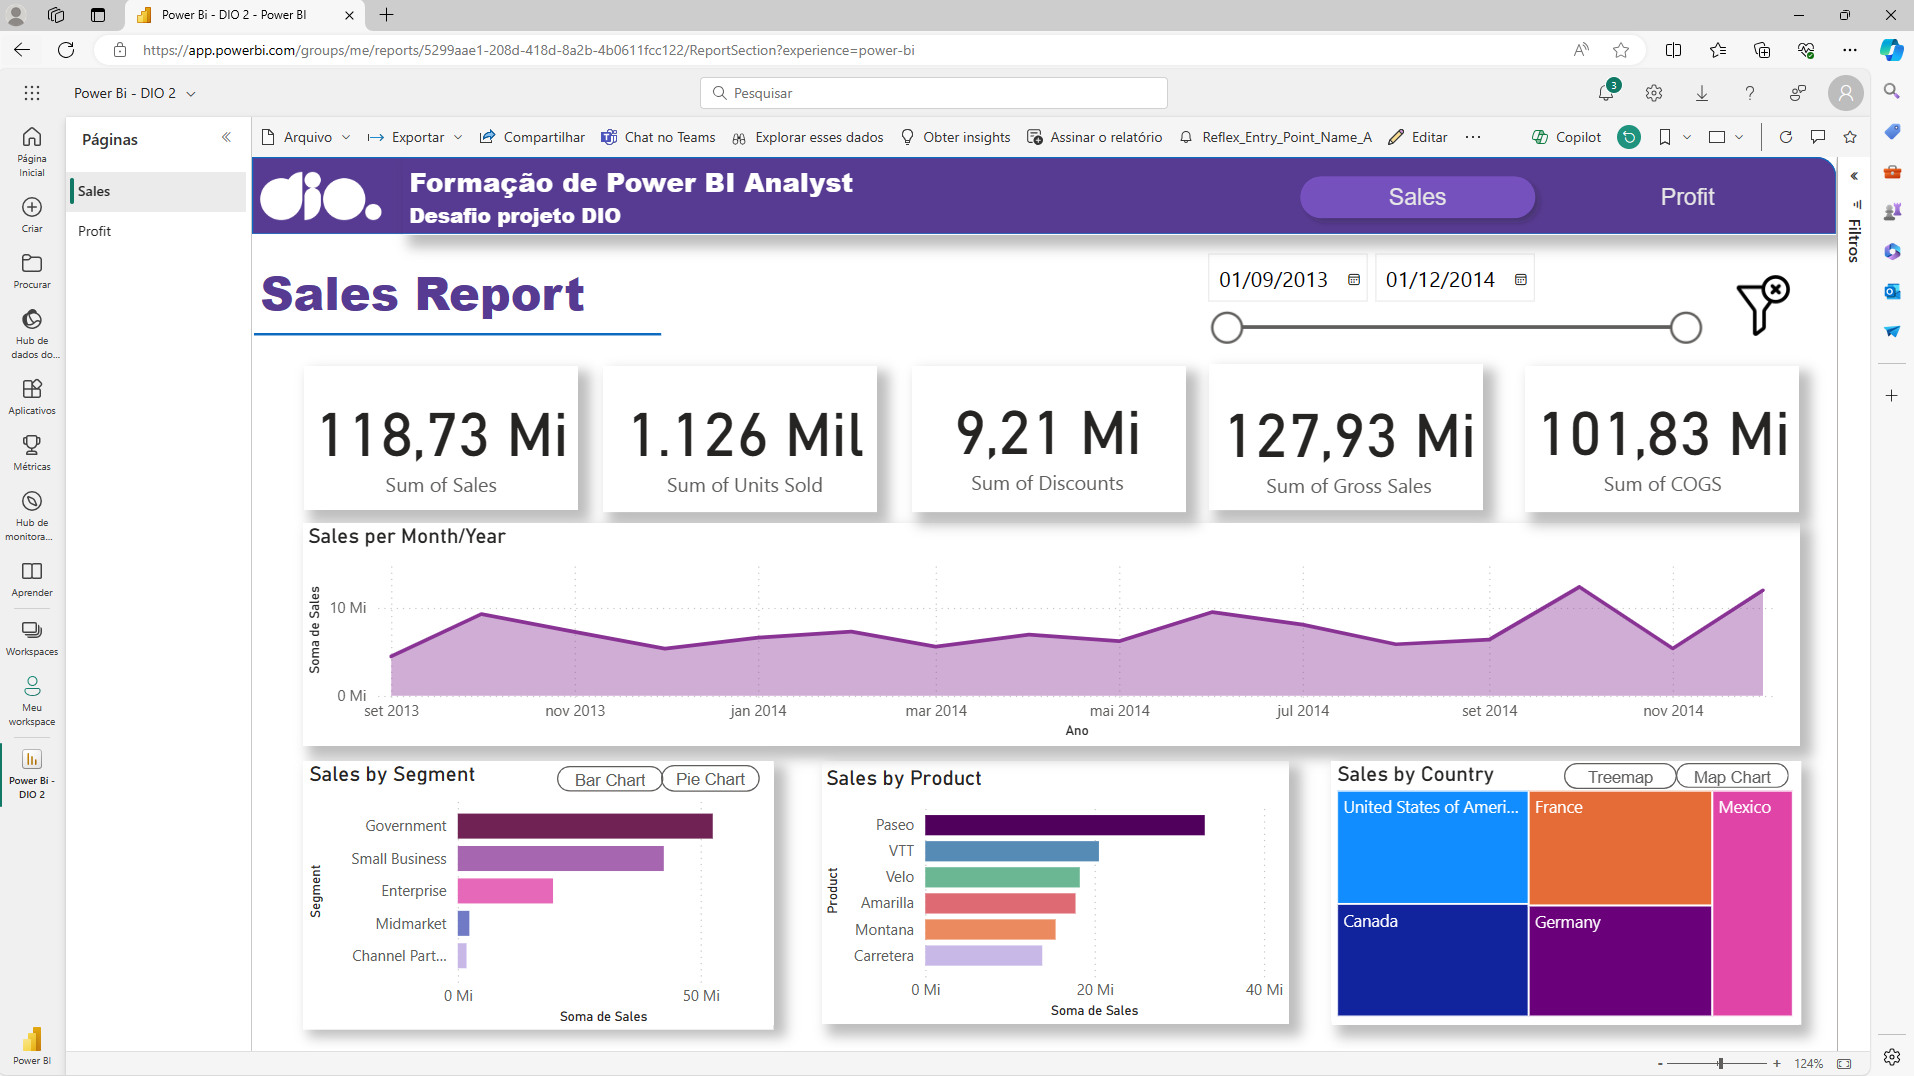

The page's visual inventory and layout, read from the dashboard file:
{"tool":"powerbi","page":{"name":"Sales","canvas":[1280,720],"ordinal":0},"visuals":[{"type":"shape","box":[0,0,1279.4,62.5],"z":0},{"type":"slicer","fields":{"Values":["financials.Date"]},"box":[758.8,67.8,420.3,101],"z":0,"group":"g1"},{"type":"card","fields":{"Values":["Sum(financials.Gross Sales)"]},"box":[774.4,166.7,222.8,126.6],"z":0,"group":"g4"},{"type":"clusteredBarChart","title":"Sales by Segment","fields":{"Y":["Sum(financials. Sales)"],"Category":["financials.Segment"]},"box":[40.9,488.1,380.3,216.6],"z":0,"group":"g2"},{"type":"image","title":"Imagem - Clean","box":[1187.9,90,64.1,59.1],"z":1000,"group":"g1"},{"type":"shape","box":[42.2,168.8,221.1,116.5],"z":1000},{"type":"card","fields":{"Values":["Sum(financials.Discounts)"]},"box":[532.4,168.8,220.3,116.5],"z":1000,"group":"g4"},{"type":"map","title":"Sales by Country","fields":{"Size":["Sum(financials. Sales)"],"Category":["financials.Country"]},"box":[872.8,488.2,378.2,195],"z":1000,"group":"g3"},{"type":"actionButton","title":"Treemap","box":[1059.5,489.3,91.2,21],"z":1750,"group":"g3"},{"type":"card","fields":{"Values":["Sum(financials.COGS)"]},"box":[1031,165.5,217.7,124.9],"z":2000,"group":"g4"},{"type":"shape","box":[460.4,488.1,377.1,211.9],"z":2000},{"type":"actionButton","title":"Map Chart","box":[1149.9,489.3,91.2,20.2],"z":2000,"group":"g3"},{"type":"shape","box":[283.6,168.8,221.1,118.2],"z":3000},{"type":"card","fields":{"Values":["Sum(financials.Units Sold)"]},"box":[287.4,176.1,221.1,105.3],"z":3000,"group":"g4"},{"type":"actionButton","title":"Bar Chart","box":[246,491.8,85.9,20.6],"z":3000,"group":"g2"},{"type":"actionButton","title":"Pie Chart","box":[330.1,491.2,79.8,21.5],"z":3500,"group":"g2"},{"type":"shape","box":[1.5,137.4,328.8,11.7],"z":4000},{"type":"card","fields":{"Values":["Sum(financials. Sales)"]},"box":[42.2,177.6,221.7,102.4],"z":4000,"group":"g4"},{"type":"shape","box":[773.1,167.1,221.1,118.2],"z":5000},{"type":"shape","box":[40.9,488.1,380,213.4],"z":6000},{"type":"shape","box":[40.9,295.2,1208.6,179.8],"z":7000},{"type":"shape","box":[533.4,168.8,221.1,118.2],"z":8000},{"type":"shape","box":[1027.9,168.8,221.1,118.2],"z":9000},{"type":"shape","box":[872.5,488.1,377.1,213.4],"z":10000},{"type":"textbox","box":[1.5,77.5,318.6,71.6],"z":11000},{"type":"clusteredBarChart","title":"Sales by Product","fields":{"Category":["financials.Product"],"Y":["Sum(financials. Sales)"]},"box":[458.9,491.1,378.5,209],"z":12000},{"type":"group","id":"g1","title":"Filtro por data","box":[758.8,67.8,493.2,101],"z":13000},{"type":"group","id":"g2","title":"Sales X Segmento","box":[40.9,488.1,382.9,216.3],"z":14000},{"type":"group","id":"g3","title":"Sales X Pais","box":[871,487.9,380,211.3],"z":15000},{"type":"group","id":"g4","title":"Cartões","box":[42.2,165.5,1206.5,127.8],"z":16000},{"type":"textbox","box":[121.7,0,1157.4,62.7],"z":17000},{"type":"areaChart","title":"Sales per Month/Year","fields":{"Category":["financials.Date.Variation.Hierarquia de datas.Ano","financials.Date.Variation.Hierarquia de datas.Mês"],"Y":["Sum(financials. Sales)"]},"box":[40.4,295.5,1209.8,178.6],"z":18000},{"type":"image","title":"Icone - DIO","box":[1.7,0,108,62.5],"z":19000},{"type":"pageNavigator","box":[837.2,6.8,427,52.3],"z":20000}]}

Visuals, with their boxes on the page's 1280x720 design canvas (x1, y1, x2, y2). These are canvas units, not pixel positions in the 1914x1076 screenshot, which may show the page scaled, cropped or inside an application window:
shape: bbox=[0, 0, 1279, 62]
slicer - financials.Date: bbox=[759, 68, 1179, 169]
card - Sum(financials.Gross Sales): bbox=[774, 167, 997, 293]
"Sales by Segment" clusteredBarChart: bbox=[41, 488, 421, 705]
"Imagem - Clean" image: bbox=[1188, 90, 1252, 149]
shape: bbox=[42, 169, 263, 285]
card - Sum(financials.Discounts): bbox=[532, 169, 753, 285]
"Sales by Country" map: bbox=[873, 488, 1251, 683]
"Treemap" actionButton: bbox=[1060, 489, 1151, 510]
card - Sum(financials.COGS): bbox=[1031, 166, 1249, 290]
shape: bbox=[460, 488, 838, 700]
"Map Chart" actionButton: bbox=[1150, 489, 1241, 510]
shape: bbox=[284, 169, 505, 287]
card - Sum(financials.Units Sold): bbox=[287, 176, 508, 281]
"Bar Chart" actionButton: bbox=[246, 492, 332, 512]
"Pie Chart" actionButton: bbox=[330, 491, 410, 513]
shape: bbox=[2, 137, 330, 149]
card - Sum(financials. Sales): bbox=[42, 178, 264, 280]
shape: bbox=[773, 167, 994, 285]
shape: bbox=[41, 488, 421, 702]
shape: bbox=[41, 295, 1250, 475]
shape: bbox=[533, 169, 754, 287]
shape: bbox=[1028, 169, 1249, 287]
shape: bbox=[872, 488, 1250, 702]
textbox: bbox=[2, 78, 320, 149]
"Sales by Product" clusteredBarChart: bbox=[459, 491, 837, 700]
"Filtro por data" group: bbox=[759, 68, 1252, 169]
"Sales X Segmento" group: bbox=[41, 488, 424, 704]
"Sales X Pais" group: bbox=[871, 488, 1251, 699]
"Cartões" group: bbox=[42, 166, 1249, 293]
textbox: bbox=[122, 0, 1279, 63]
"Sales per Month/Year" areaChart: bbox=[40, 296, 1250, 474]
"Icone - DIO" image: bbox=[2, 0, 110, 62]
pageNavigator: bbox=[837, 7, 1264, 59]
